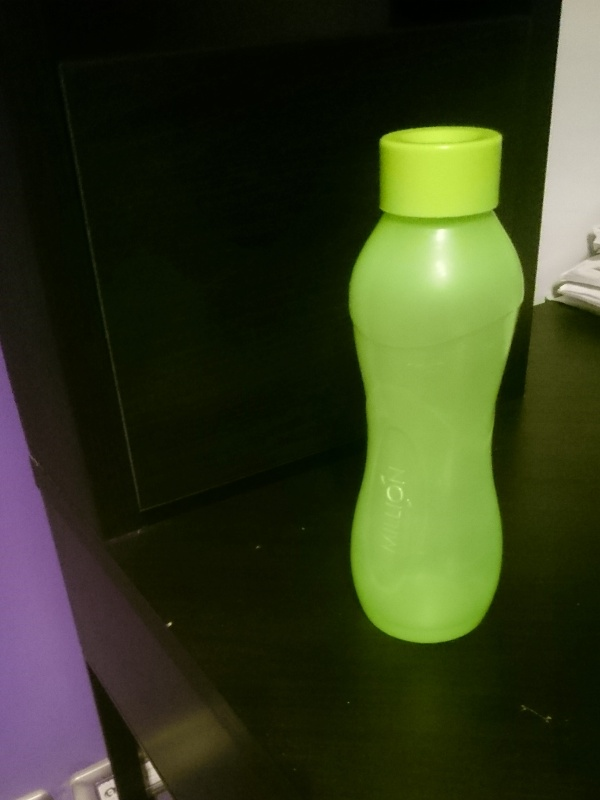my bottle: (345, 128, 523, 643)
